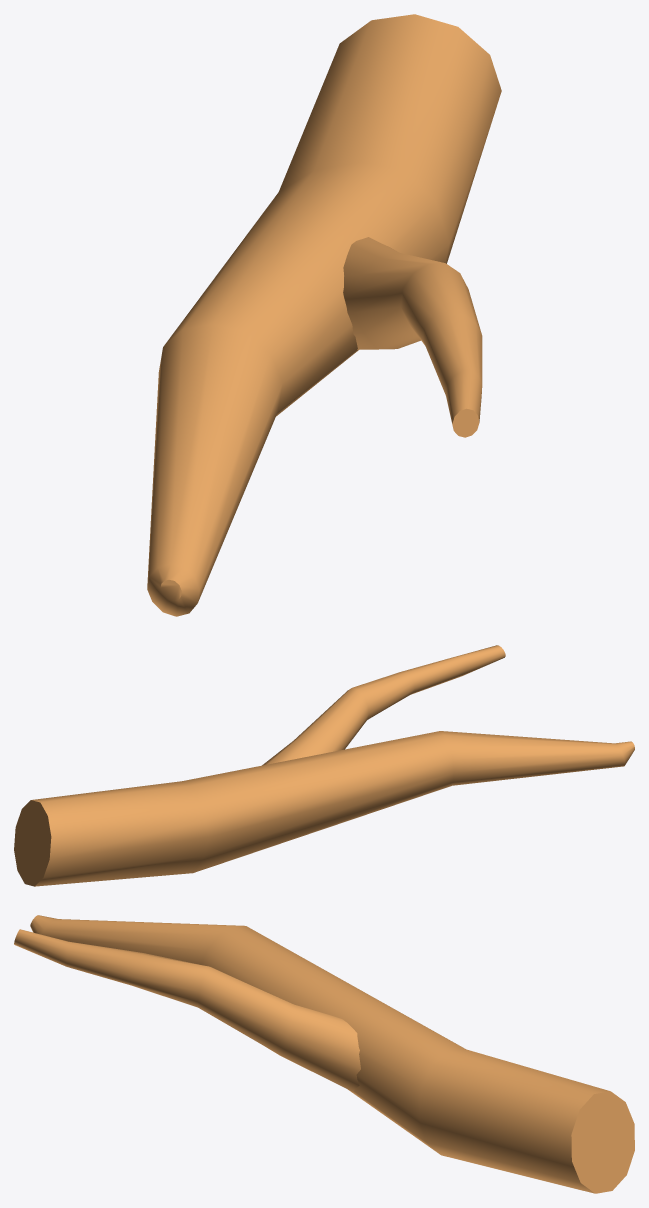
The model's file is m_branch01.fbx.
3 views of the same model, one above another, from view 1: azimuth 30°, elevation 25°; view 2: azimuth 150°, elevation 25°; view 3: azimuth 270°, elevation 25° (orthographic). The views are drawn at different scales.
Parts seen in each view (by area): view 1: m_branch01; view 2: m_branch01; view 3: m_branch01.
Boxes of the visible parts, bbox=[...] form: m_branch01: bbox=[147, 14, 501, 616]; m_branch01: bbox=[14, 645, 634, 886]; m_branch01: bbox=[14, 915, 634, 1193].
Bounding box in the file's own units: 44.05 × 13.15 × 50.52.
